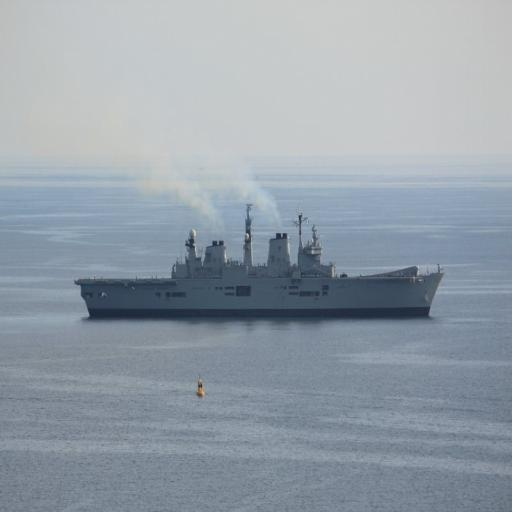Portanaves: (73, 191, 446, 326)
